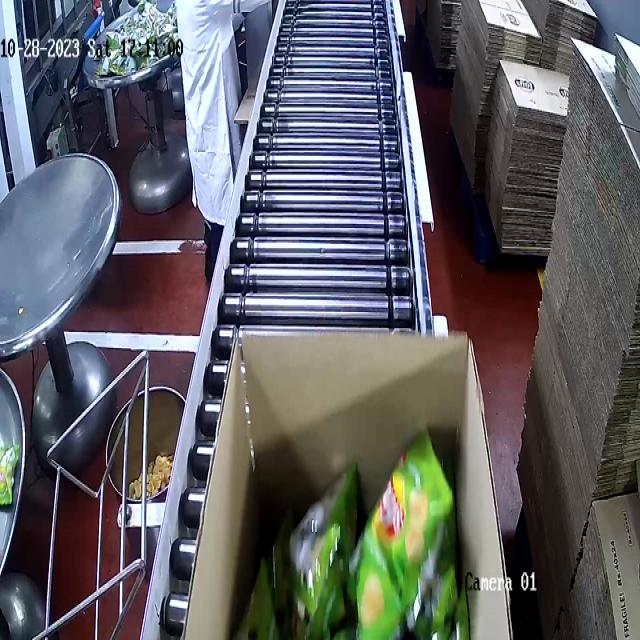YOGURT_HERB: (247, 460, 471, 635)
